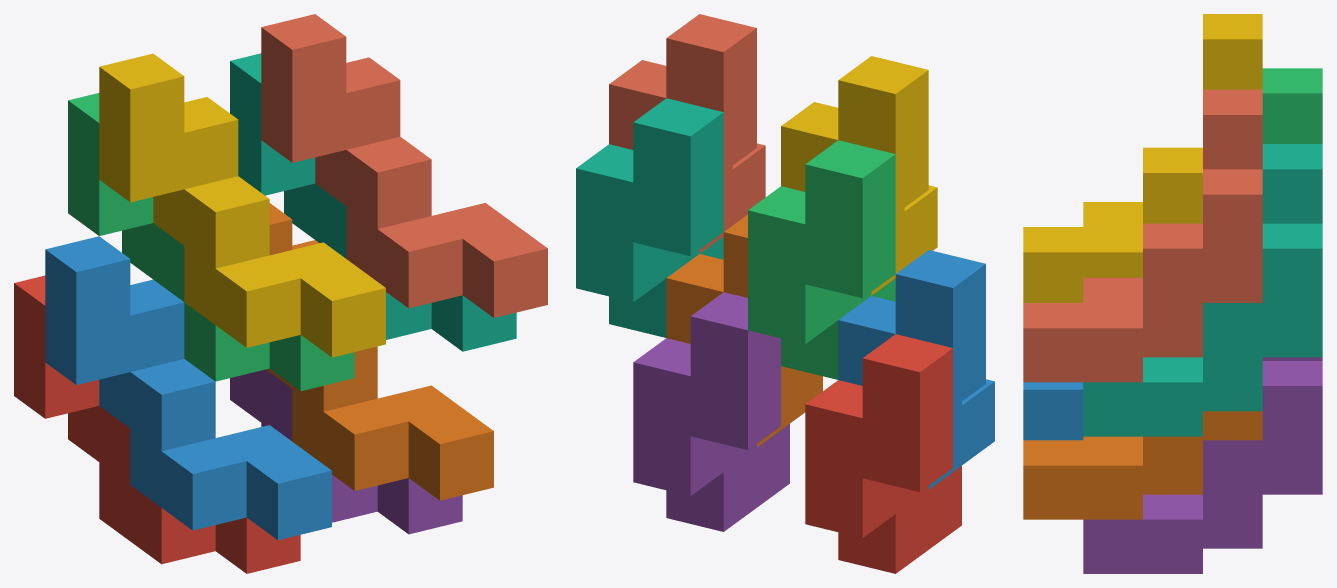
Rendered from tiling.obj.
The picture shows the model from 3 angles, left to right: view 1: azimuth 30°, elevation 25°; view 2: azimuth 150°, elevation 25°; view 3: azimuth 270°, elevation 25°; orthographic projection. The views are drawn at different scales.
Parts seen in each view (by area): view 1: copy_1_domain_4, copy_1_domain_2, copy_1_domain_8, copy_1_domain_6, copy_1_domain_1, copy_1_domain_3, copy_1_domain_7, copy_1_domain_5; view 2: copy_1_domain_1, copy_1_domain_5, copy_1_domain_3, copy_1_domain_7, copy_1_domain_2, copy_1_domain_4, copy_1_domain_8, copy_1_domain_6; view 3: copy_1_domain_8, copy_1_domain_7, copy_1_domain_5, copy_1_domain_4, copy_1_domain_6, copy_1_domain_3, copy_1_domain_2.
Part boxes in pixels (x1,y1,x2,y2): copy_1_domain_4: [99, 53, 385, 357]; copy_1_domain_2: [45, 236, 331, 540]; copy_1_domain_8: [261, 14, 547, 317]; copy_1_domain_6: [266, 203, 493, 500]; copy_1_domain_1: [14, 275, 300, 573]; copy_1_domain_3: [68, 93, 354, 390]; copy_1_domain_7: [230, 53, 516, 351]; copy_1_domain_5: [230, 369, 462, 534]; copy_1_domain_1: [805, 334, 961, 573]; copy_1_domain_5: [633, 292, 789, 531]; copy_1_domain_3: [748, 140, 895, 379]; copy_1_domain_7: [576, 98, 723, 337]; copy_1_domain_2: [838, 250, 994, 489]; copy_1_domain_4: [781, 56, 937, 295]; copy_1_domain_8: [609, 14, 765, 253]; copy_1_domain_6: [666, 214, 822, 447]; copy_1_domain_8: [1023, 89, 1262, 382]; copy_1_domain_7: [1083, 144, 1322, 436]; copy_1_domain_5: [1083, 357, 1322, 573]; copy_1_domain_4: [1023, 14, 1262, 302]; copy_1_domain_6: [1023, 411, 1262, 519]; copy_1_domain_3: [1262, 68, 1322, 143]; copy_1_domain_2: [1023, 382, 1083, 440].
Size of the model in its own units: 7 by 8 by 5.
